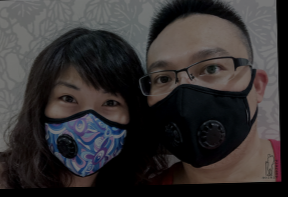with_mask: (146, 46, 253, 169), (42, 77, 132, 178)
